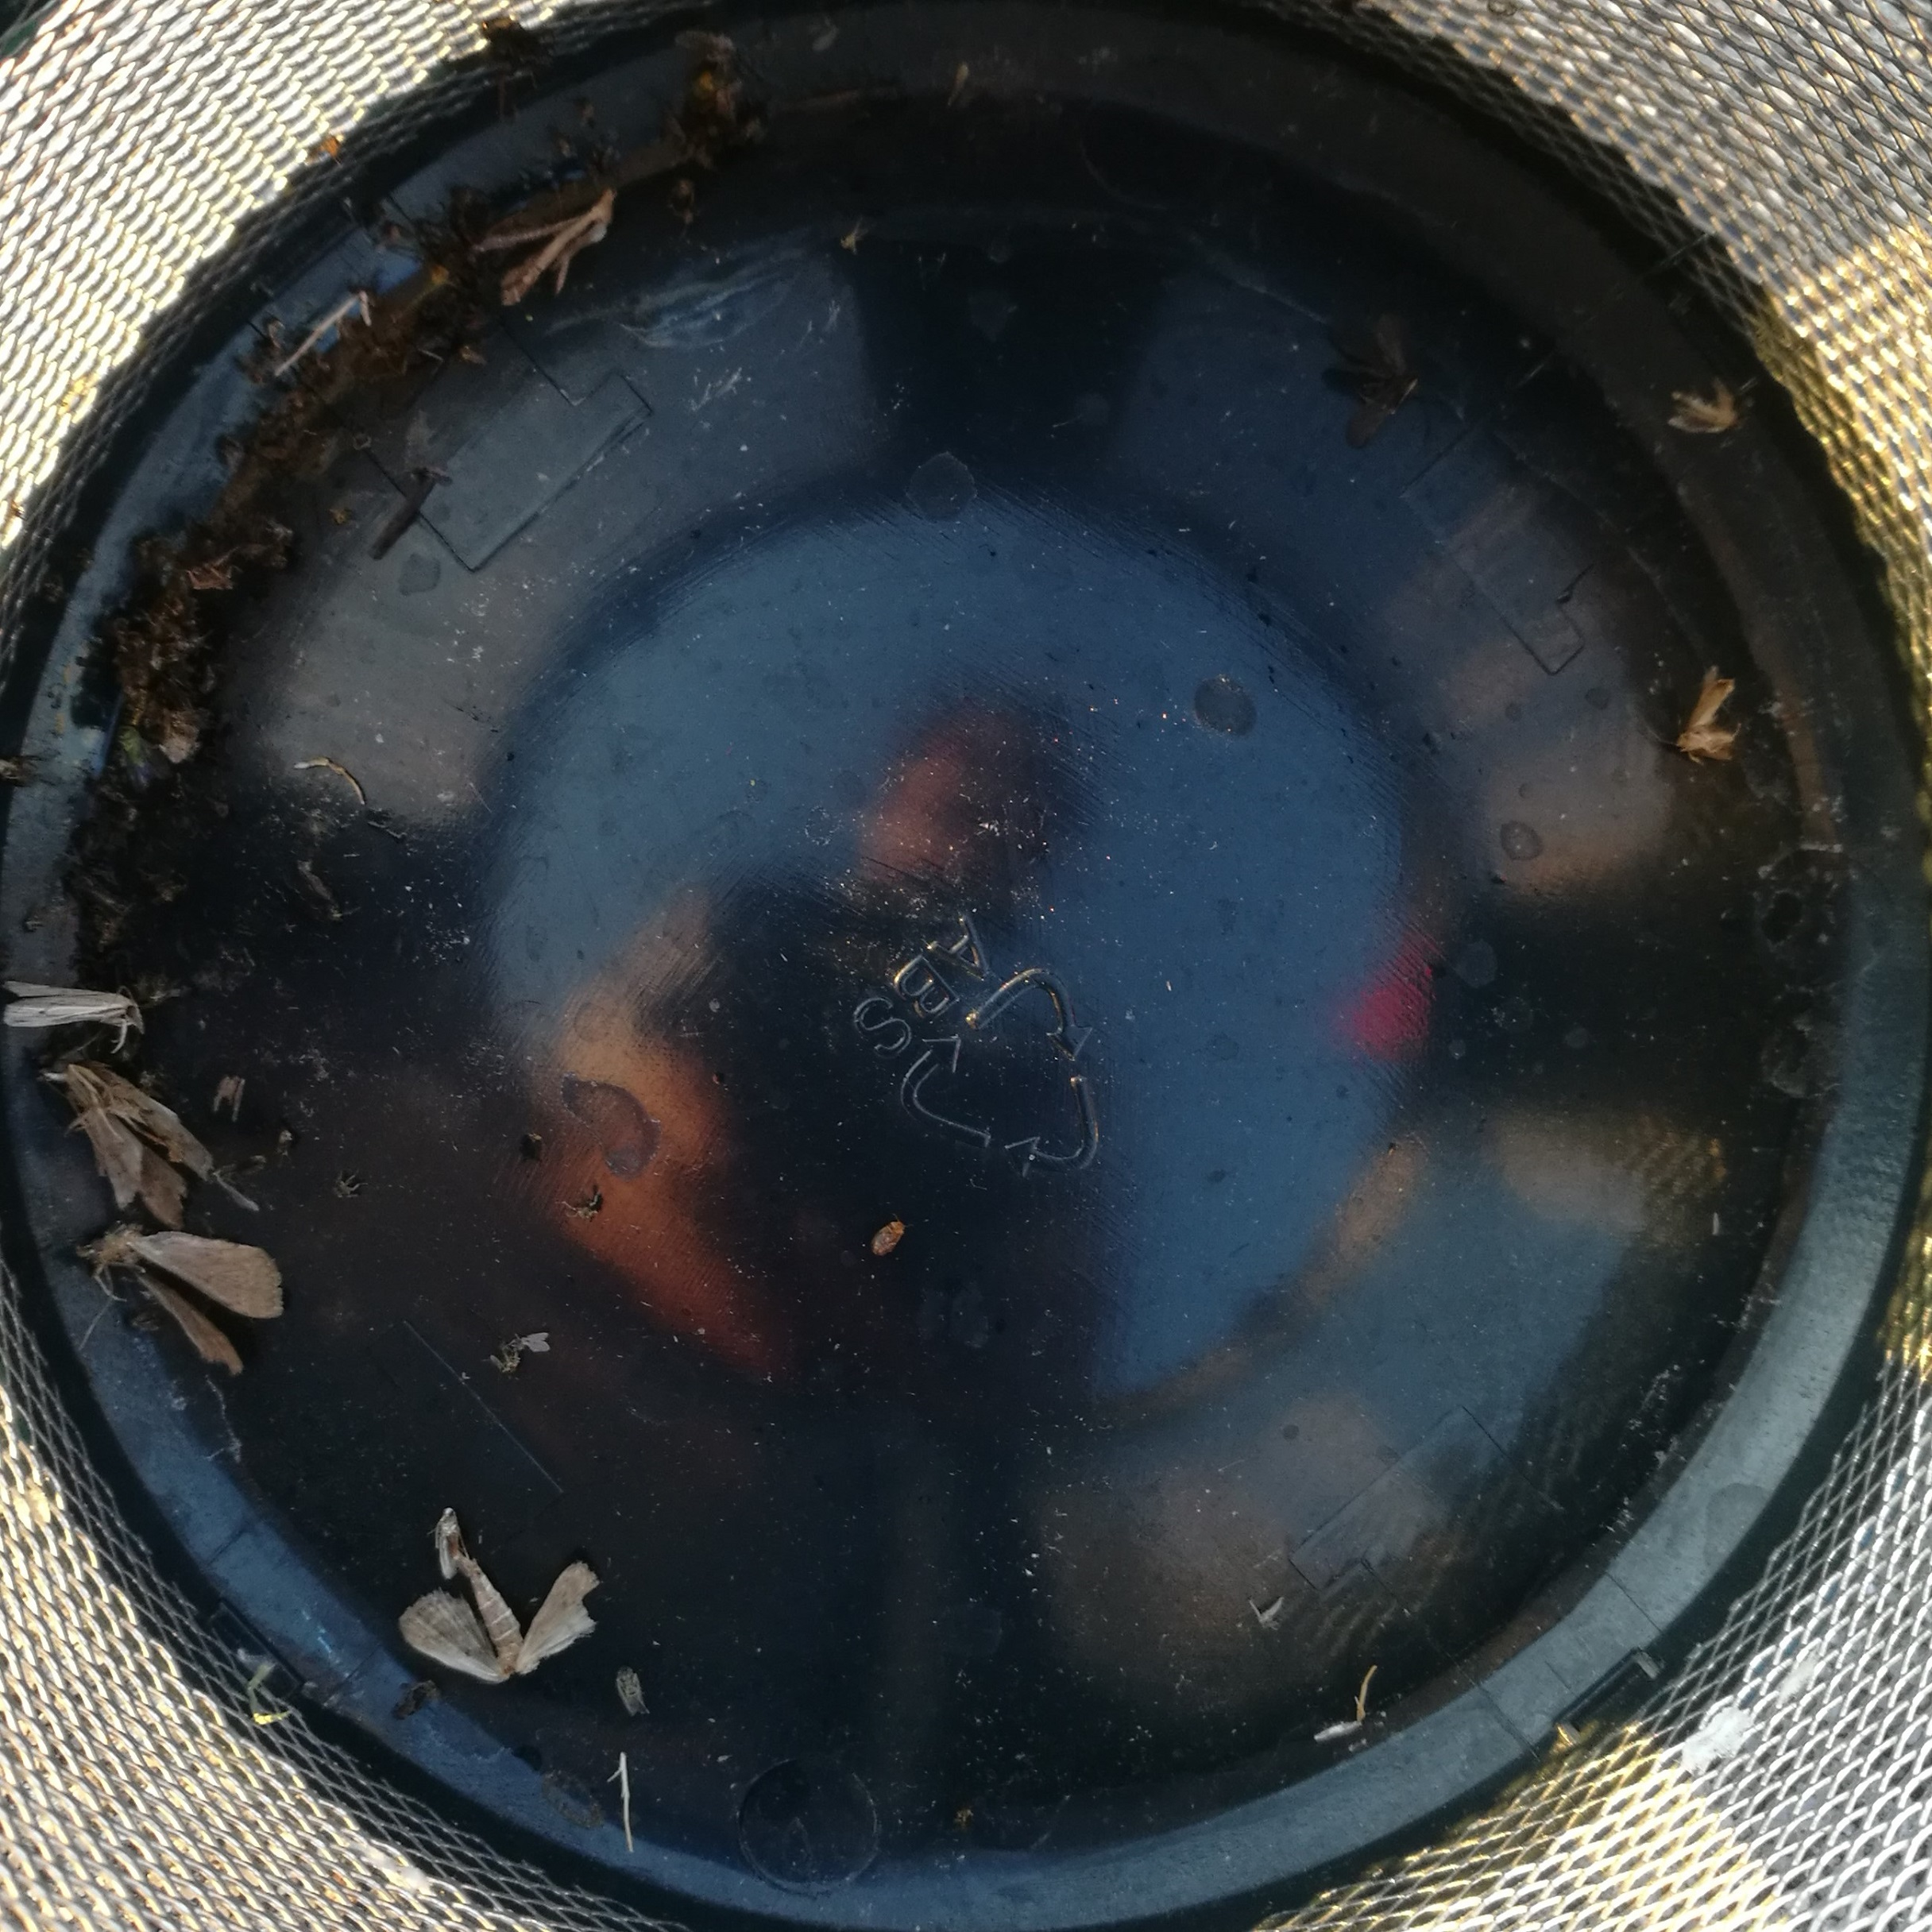mosquito: (5, 982, 145, 1028), (1679, 674, 1736, 757)
moth: (76, 1224, 281, 1378), (398, 1560, 591, 1683)
